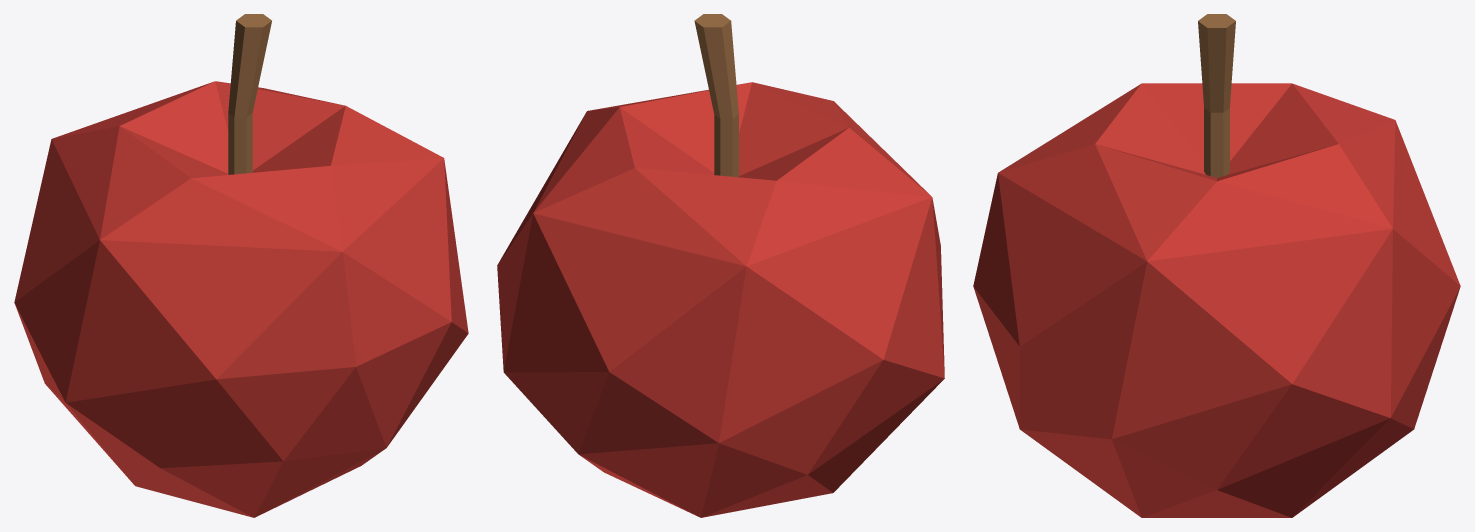
The model's file is SM_Food_Apple_01.fbx.
3 views of the same model, side by side, from view 1: azimuth 30°, elevation 25°; view 2: azimuth 150°, elevation 25°; view 3: azimuth 270°, elevation 25° (orthographic). The views are drawn at different scales.
Visible parts, largest first — view 1: SM_Food_Apple_01; view 2: SM_Food_Apple_01; view 3: SM_Food_Apple_01.
Boxes of the visible parts, x1=… form: SM_Food_Apple_01: x1=14, y1=14, x2=468, y2=517; SM_Food_Apple_01: x1=497, y1=14, x2=944, y2=517; SM_Food_Apple_01: x1=973, y1=14, x2=1460, y2=517.
Bounding box in the file's own units: 11.27 × 13.04 × 11.71.
